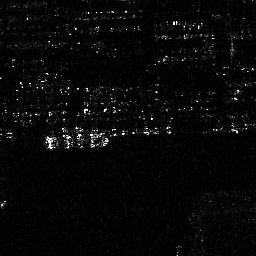ship: (41, 133, 112, 150)
